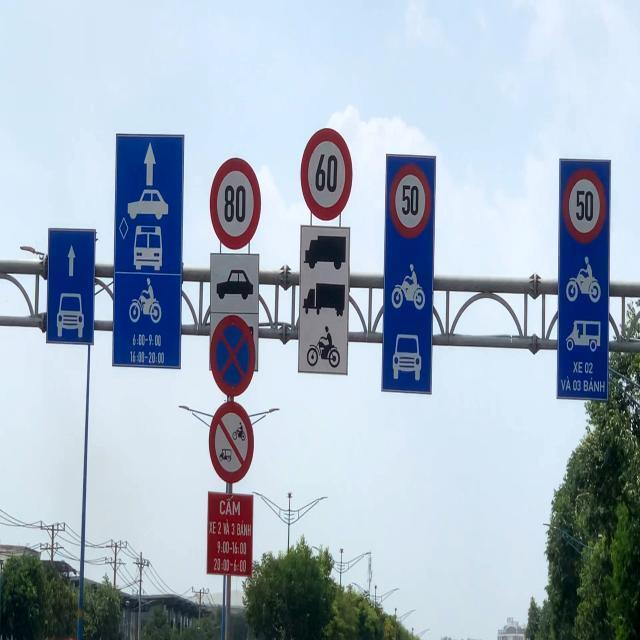127-toc-do-toi-da-50: (562, 170, 604, 238), (390, 165, 430, 233)
127-toc-do-toi-da-60: (298, 127, 354, 220)
127-toc-do-toi-da-80: (209, 159, 267, 249)
130-cam-dung-va-do-xe: (208, 317, 256, 399)
